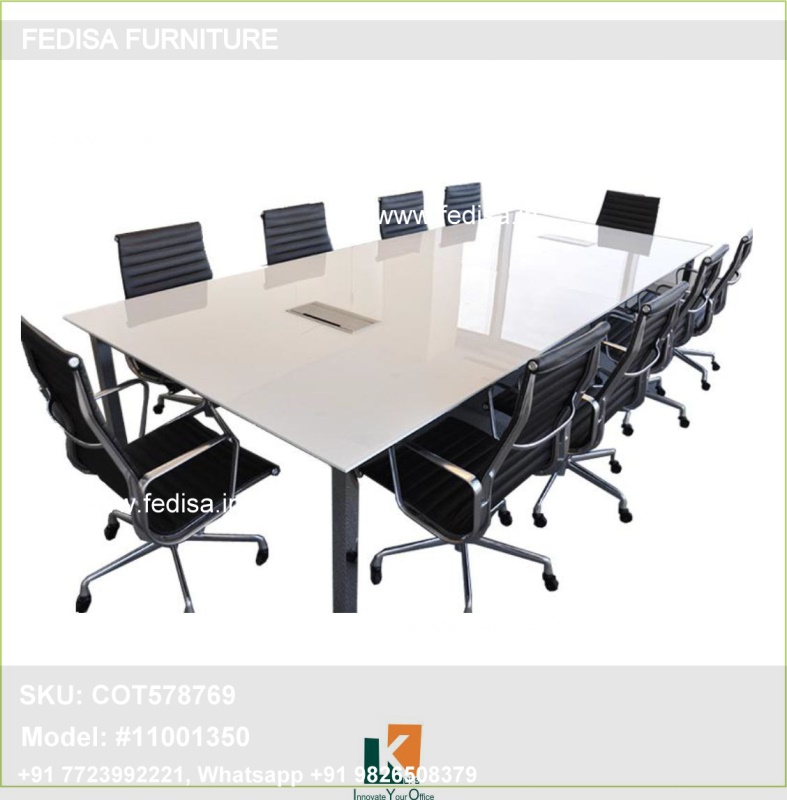conference_table: (62, 208, 717, 615)
